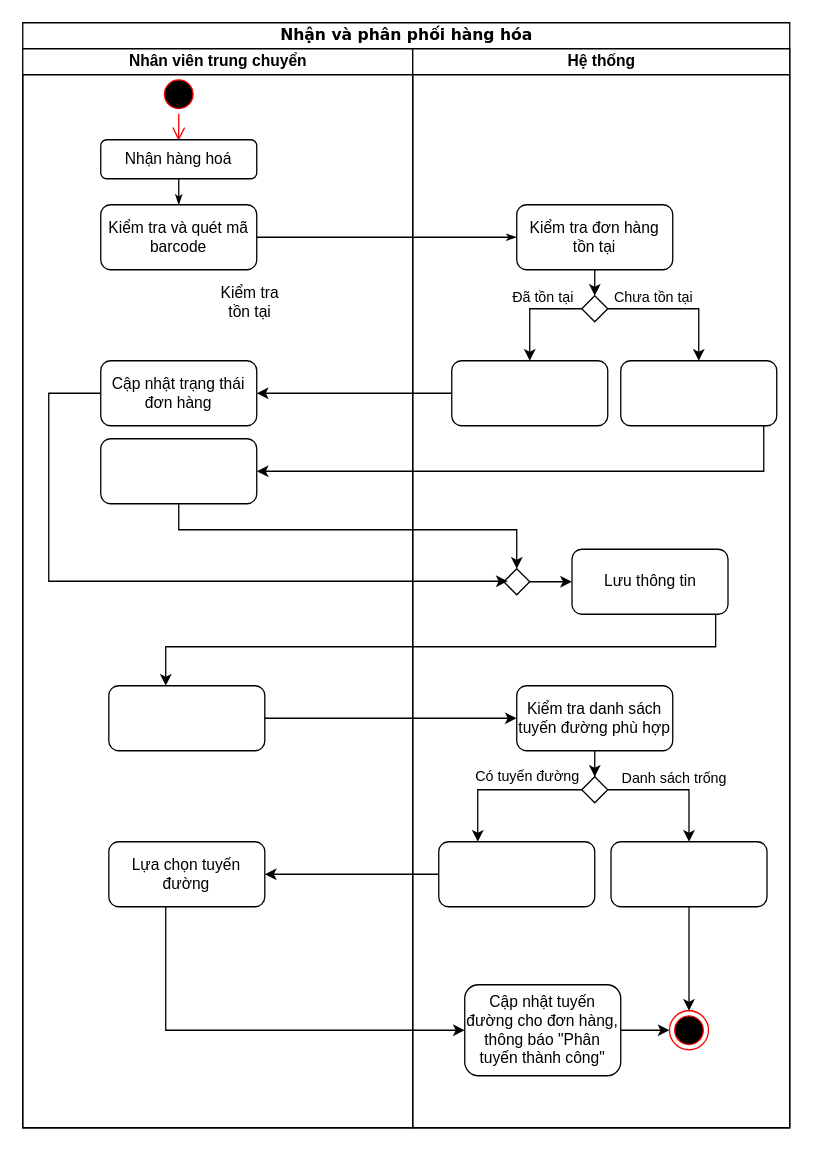
Image size: 813x1151. Some labels were removed from this diagram. The centre of each missing label's shape, as x and y in pixels:
Hiển thị danh sách tuyến đường: point 516,873
Hiển thị form cập nhật trạng thái: point 529,392
Hiển thị form thêm đơn hàng: point 698,392
Lựa chọn chức năng phân tuyến vận chuyển: point 186,717
Thêm thông tin đơn hàng: point 178,470
Thông báo "Không có tuyến đường phù hợp": point 688,873
